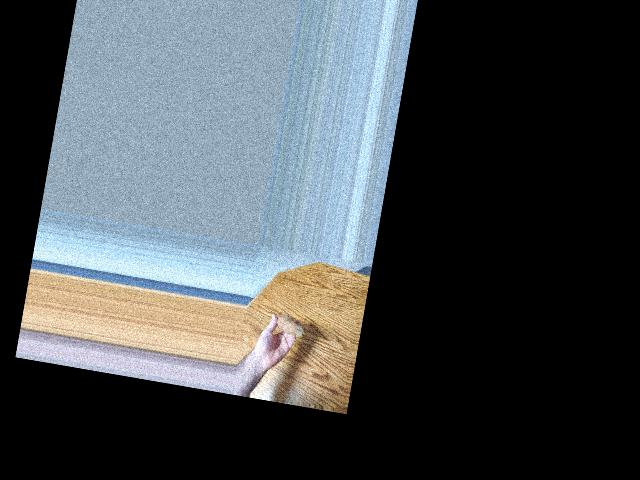sweet_potato: (272, 316, 305, 339)
